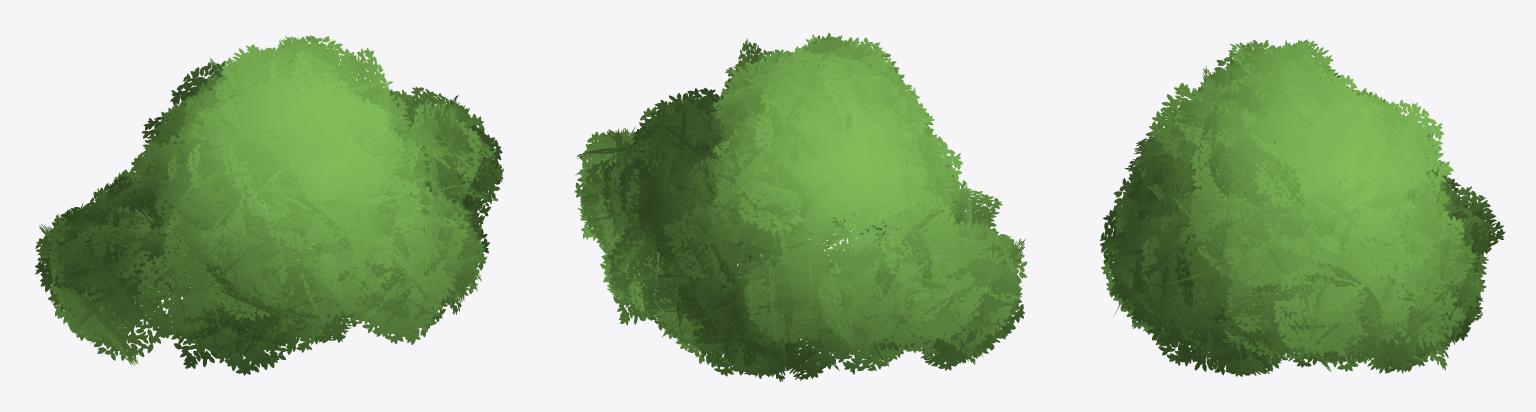
The model's file is SM_Nature_BackgroundTreeBush_02.fbx.
3 views of the same model, side by side, from view 1: azimuth 30°, elevation 25°; view 2: azimuth 150°, elevation 25°; view 3: azimuth 270°, elevation 25° (orthographic). The views are drawn at different scales.
Parts seen in each view (by area): view 1: BackgroundTreeBush_02; view 2: BackgroundTreeBush_02; view 3: BackgroundTreeBush_02.
Part boxes in pixels (x1,y1,x2,y2): BackgroundTreeBush_02: (35, 35, 503, 375); BackgroundTreeBush_02: (574, 33, 1027, 381); BackgroundTreeBush_02: (1100, 39, 1505, 376).
Size of the model in its own units: 1410 by 889 by 1116.
